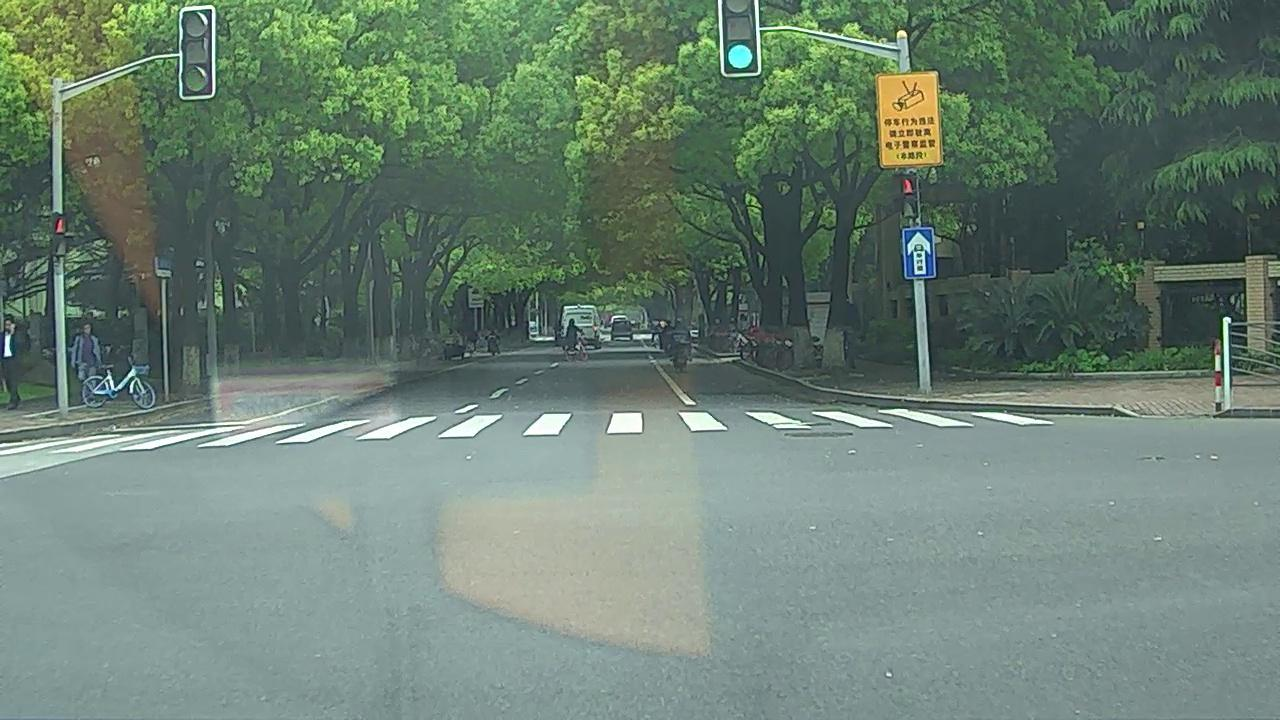traffic_light: (184, 8, 212, 100), (723, 1, 759, 72)
